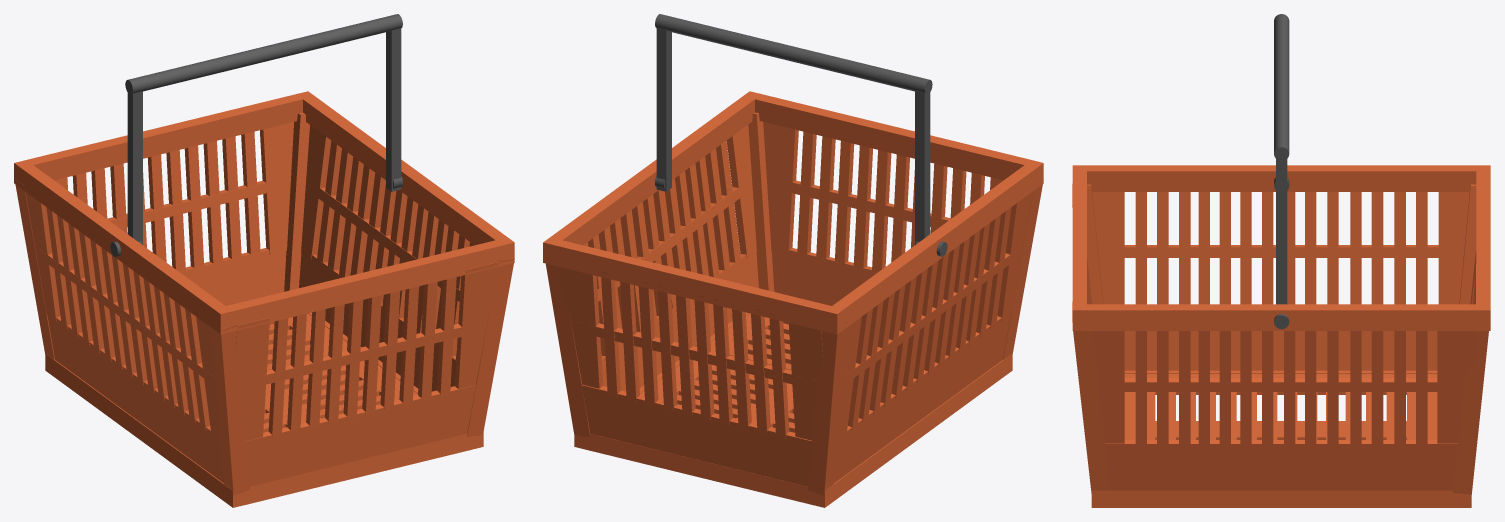
File: shopping_basket.gltf
3 views of the same model, side by side, from view 1: azimuth 30°, elevation 25°; view 2: azimuth 150°, elevation 25°; view 3: azimuth 270°, elevation 25° (orthographic).
Size of the model in its own units: 9.24 by 10.61 by 11.02.
